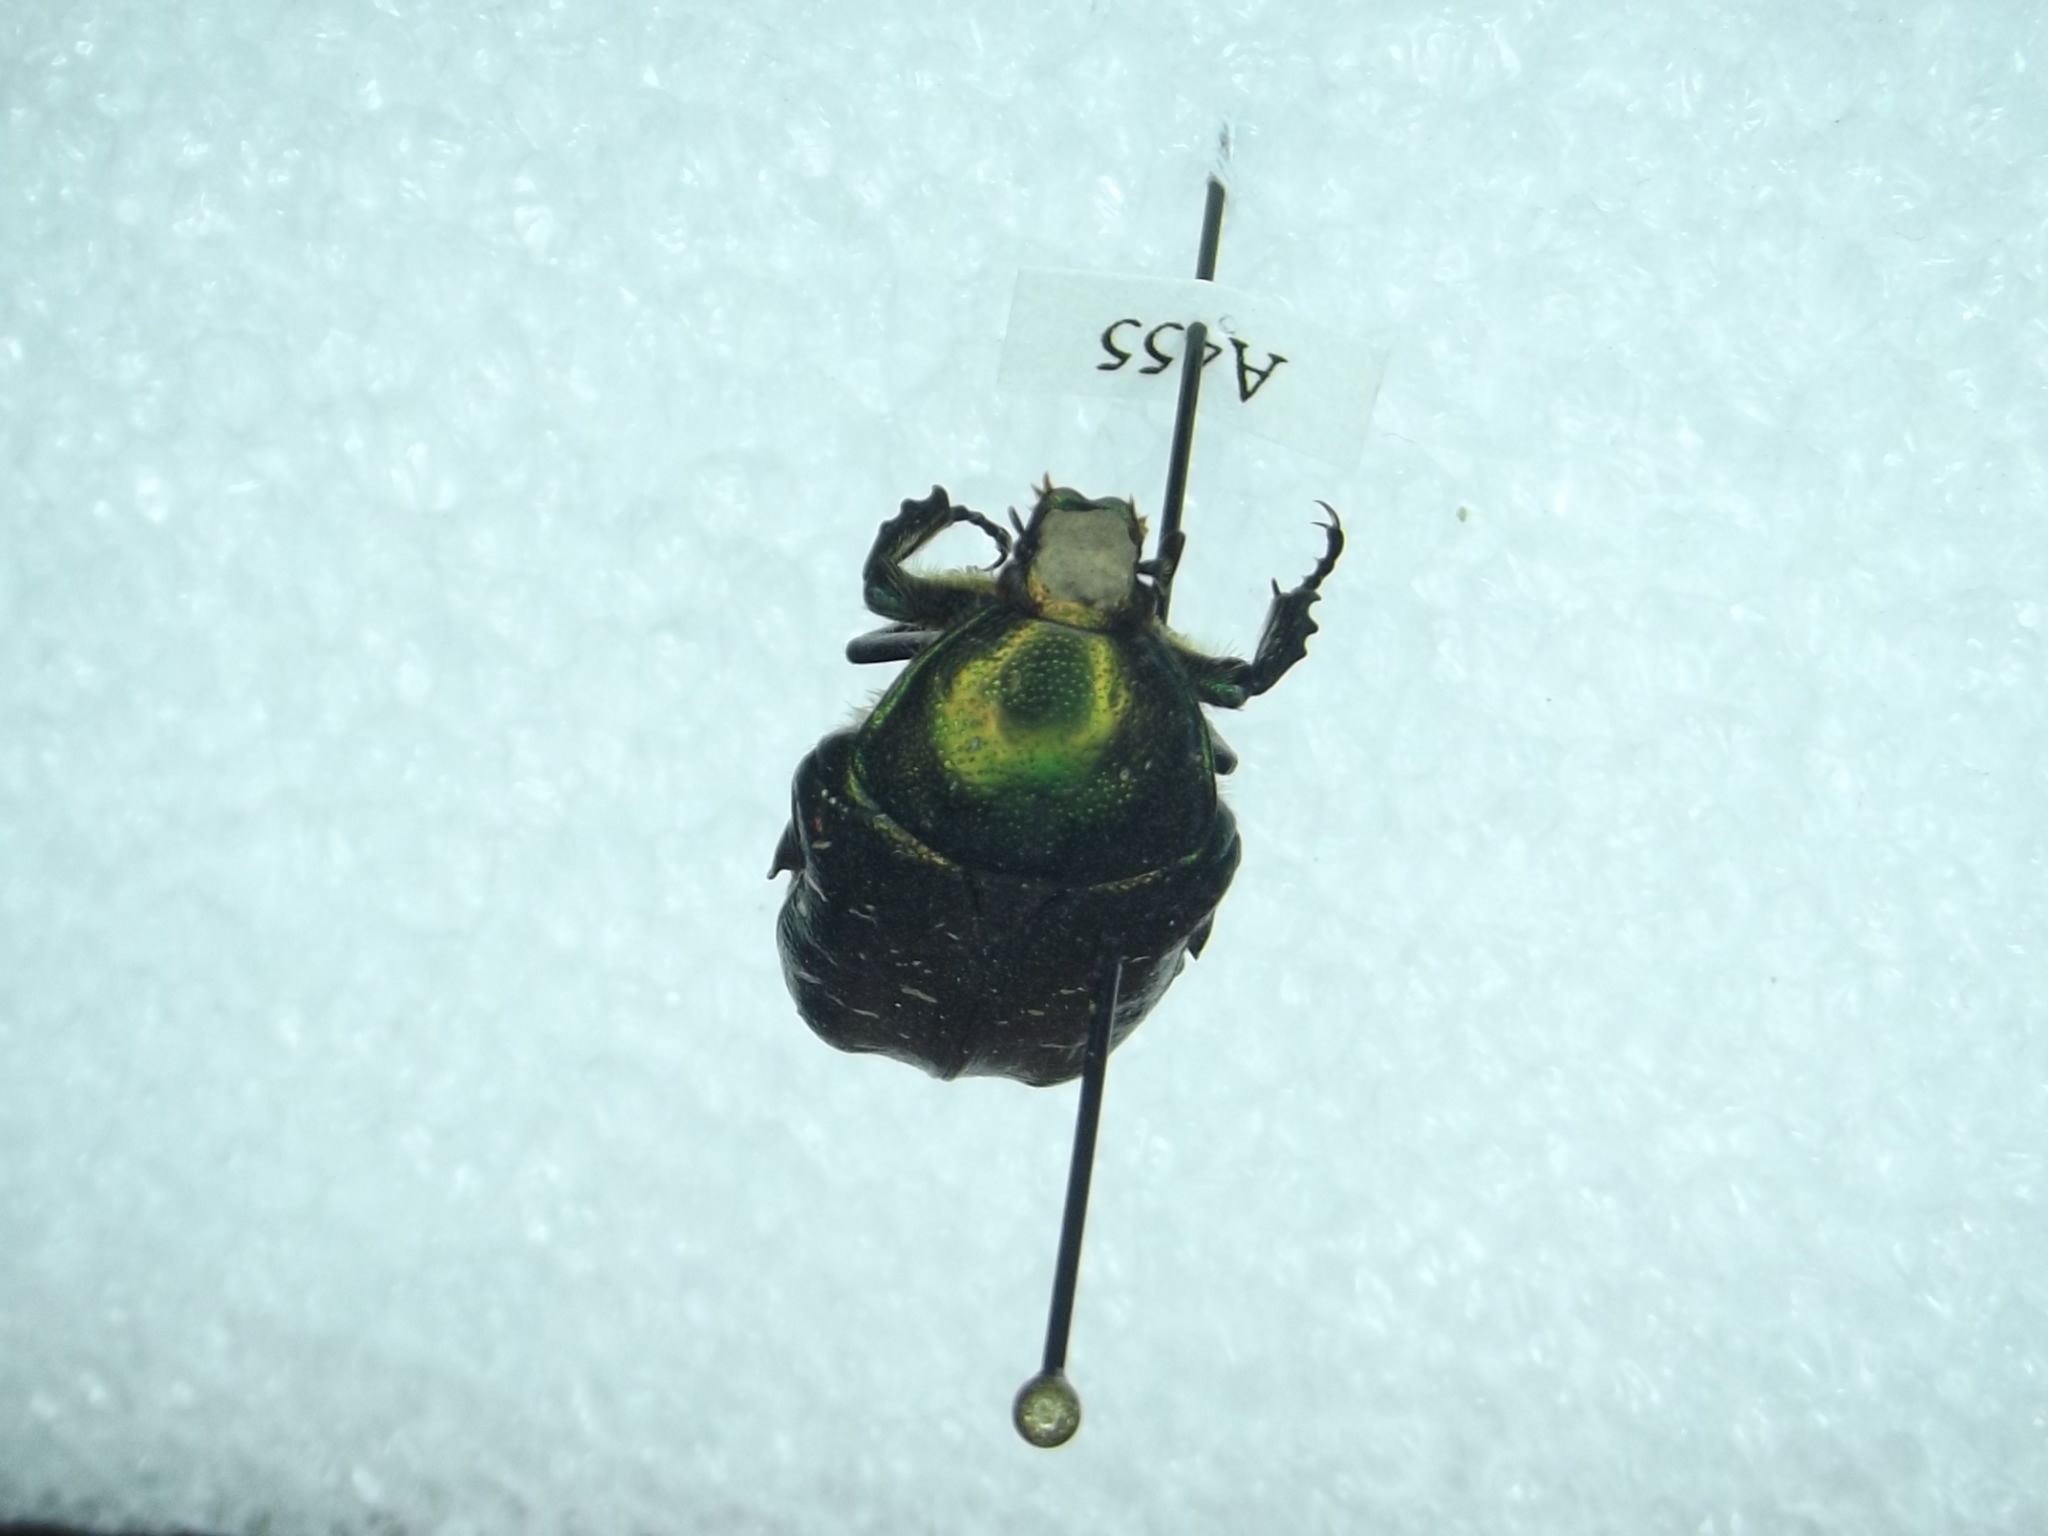Cetonia_kemali: (755, 457, 1348, 1105)
